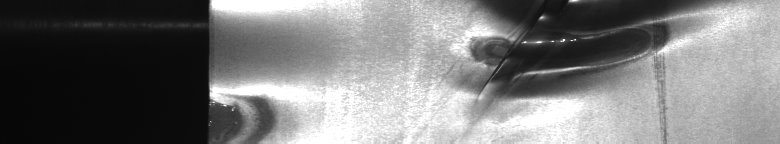ke: (464, 4, 704, 104)
